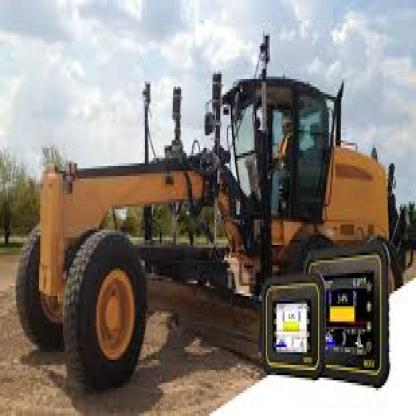bull_dozer/loader/grader: (23, 26, 409, 380)
